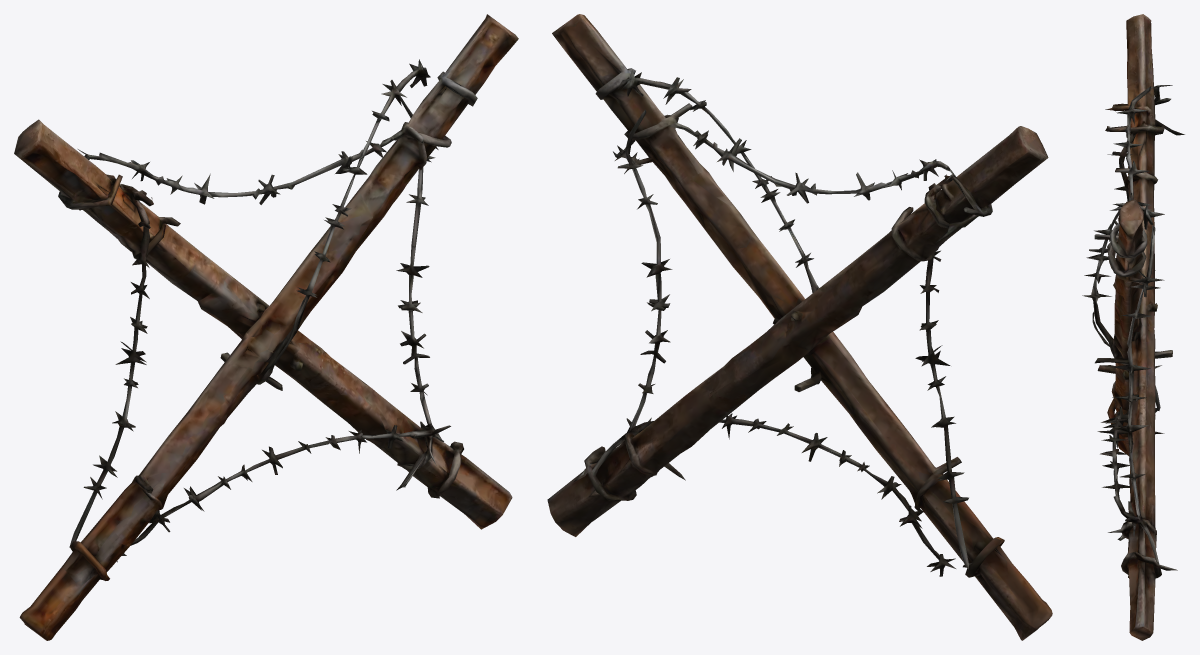
The model's file is hedgehog.glb.
3 renders of one model, left to right at view 1: azimuth 30°, elevation 25°; view 2: azimuth 150°, elevation 25°; view 3: azimuth 270°, elevation 25°, orthographic. The views are drawn at different scales.
Parts seen in each view (by area): view 1: tripo_node_3a5cbd8f-0ced-4d1a-96d6-f3a7df0327e0; view 2: tripo_node_3a5cbd8f-0ced-4d1a-96d6-f3a7df0327e0; view 3: tripo_node_3a5cbd8f-0ced-4d1a-96d6-f3a7df0327e0.
Boxes of the visible parts, x1,y1,x2,y2 form: tripo_node_3a5cbd8f-0ced-4d1a-96d6-f3a7df0327e0: (14,14,518,640); tripo_node_3a5cbd8f-0ced-4d1a-96d6-f3a7df0327e0: (547,14,1052,640); tripo_node_3a5cbd8f-0ced-4d1a-96d6-f3a7df0327e0: (1082,14,1184,640).
Bounding box in the file's own units: 0.9993 × 0.994 × 0.2127.
Materials: 1 (1 with a texture image).
